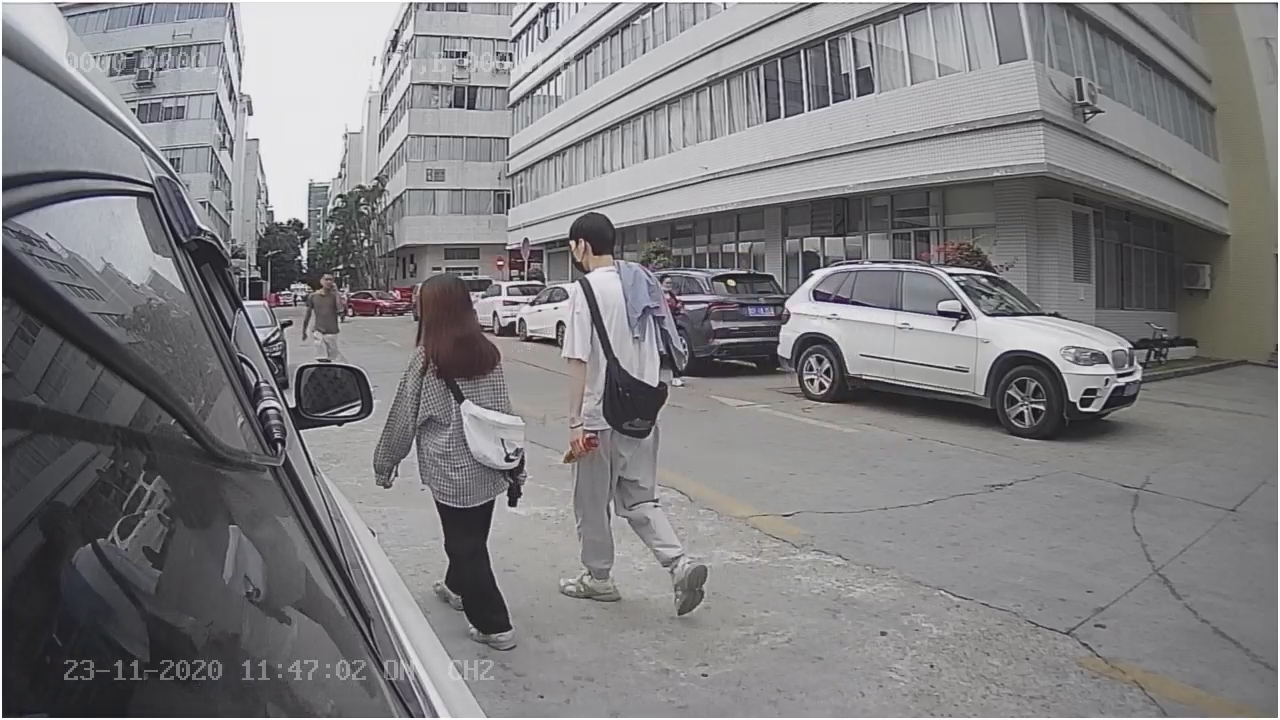person: (552, 208, 711, 614), (378, 271, 532, 645)
